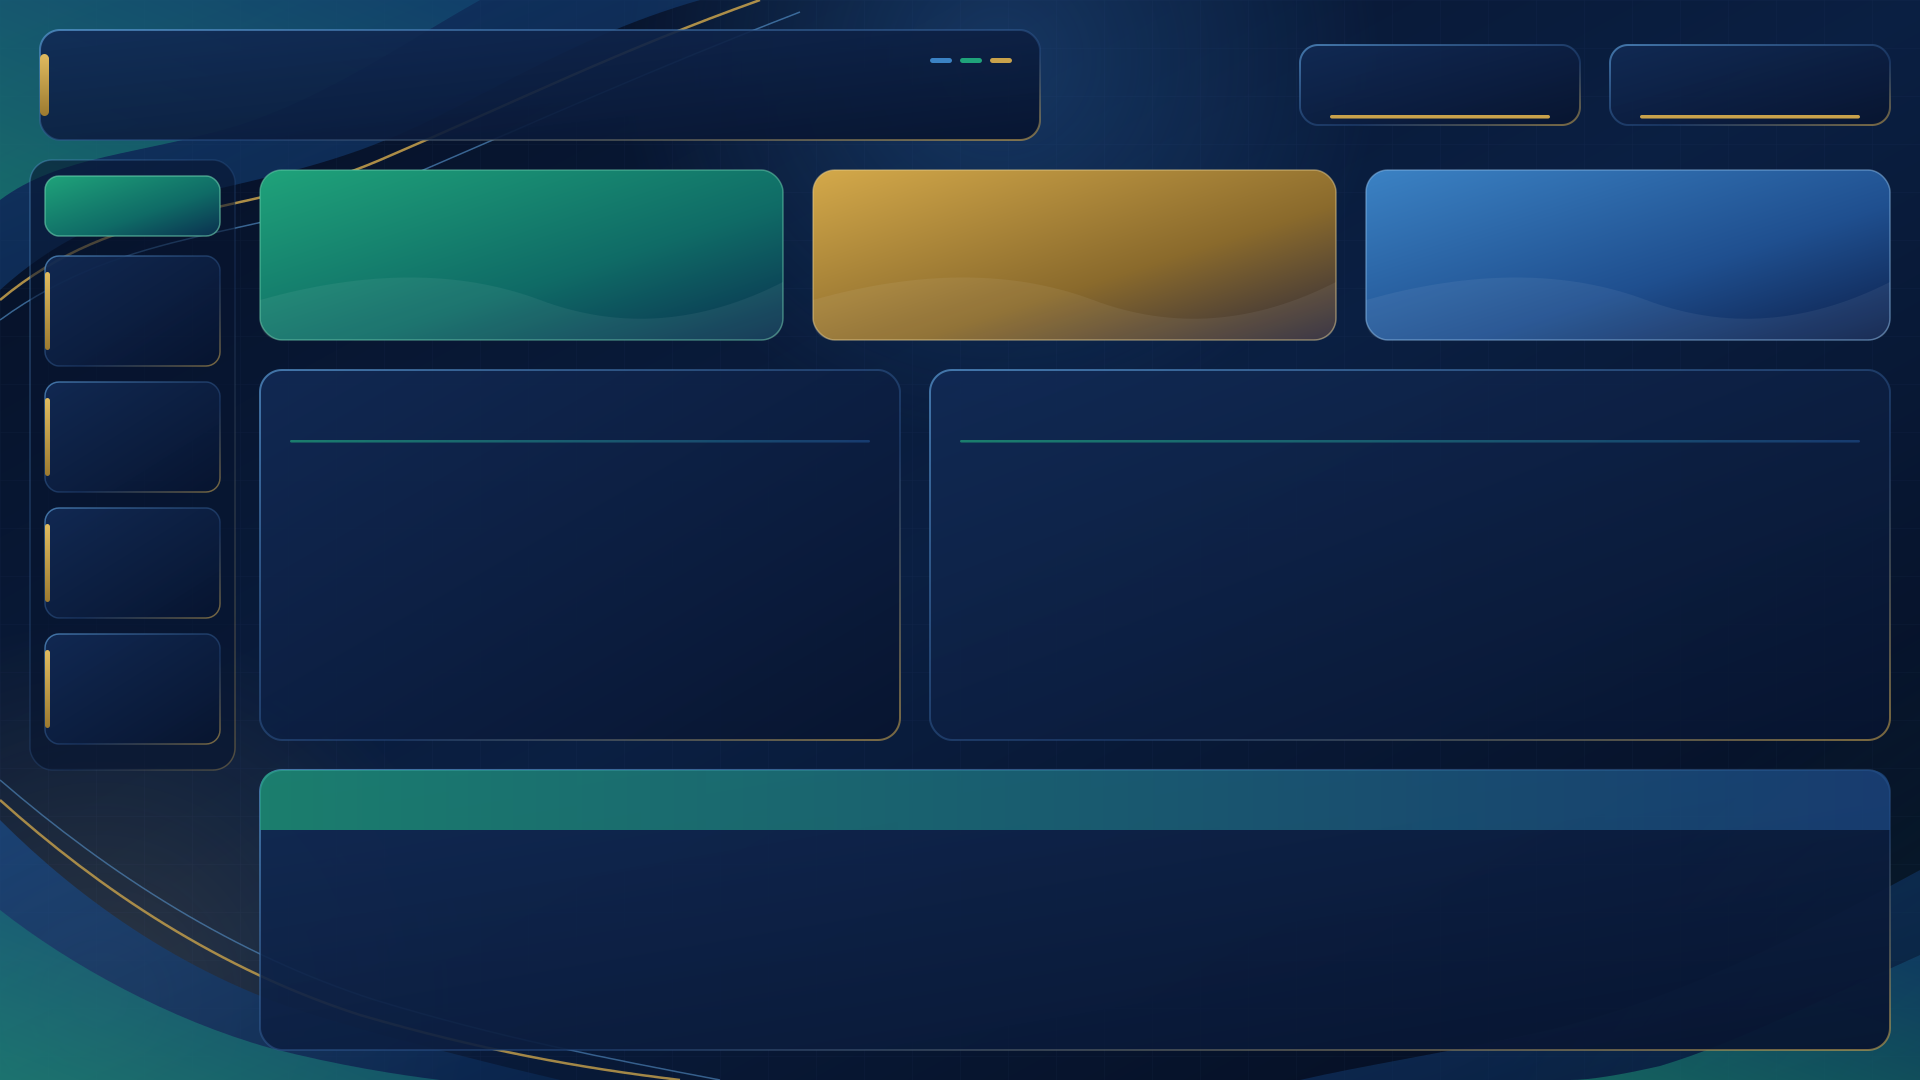

What the dashboard file says about the page in this screenshot:
{"tool":"powerbi","page":{"name":"Início","canvas":[1920,1080],"ordinal":0},"visuals":[{"type":"image","box":[0,0,1920,1080.2],"z":0},{"type":"donutChart","title":"Valor Total de Dívidas","fields":{"Category":["fDividas.Nome da dívida"],"Y":["Sum(fDividas.Valor contratado (R$))"]},"box":[943.3,365,936.7,363.3],"z":1000},{"type":"clusteredBarChart","title":"Evolução Mensal","fields":{"Category":["dCalenario.Mes"],"Y":["Medida.Soma das Despesas","Medida.Soma das Receitas"]},"box":[273.3,365,613.3,363.3],"z":2000},{"type":"treemap","title":"Soma de Cada Tipo de Investimento","fields":{"Group":["fInvestimentos.Nome do investimento"],"Values":["Sum(fInvestimentos.Valor atual (R$))"]},"box":[261.7,763.3,1635,288.3],"z":3000},{"type":"cardVisual","title":"Saldo Total em Conta","fields":{"Data":["Medida.Salto Total em Conta"]},"box":[273.3,180,490,151.7],"z":4000},{"type":"cardVisual","title":"Soma Total das Receitas","fields":{"Data":["Medida.Soma Total das Receitas"]},"box":[828.3,180,488.3,151.7],"z":5000},{"type":"cardVisual","title":"Soma Total das Despesas","fields":{"Data":["Medida.Saldo Geral Devedor"]},"box":[1398.3,180,468.3,151.7],"z":6000},{"type":"slicer","fields":{"Values":["dCalenario.Ano"]},"box":[51.7,271.7,161.7,80],"z":7000},{"type":"slicer","fields":{"Values":["dCalenario.Mes"]},"box":[51.4,397.1,161.7,80],"z":8000},{"type":"slicer","fields":{"Values":["fInvestimentos.Nome do investimento"]},"box":[51.4,524.3,161.7,80],"z":9000},{"type":"slicer","fields":{"Values":["fDividas.Nome da dívida"]},"box":[51.4,648.6,161.7,80],"z":10000},{"type":"textbox","box":[51.4,185.7,161.4,37.1],"z":11000},{"type":"shape","box":[40,172,181.4,62.9],"z":12000},{"type":"textbox","box":[1317.1,55.7,254.3,54.3],"z":13000},{"type":"textbox","box":[1625.7,55.7,254.3,54.3],"z":14000},{"type":"shape","box":[1295,0,300,88.6],"z":15000},{"type":"shape","box":[1603.3,0,300,88.6],"z":16000},{"type":"textbox","box":[53.3,46.7,811.7,71.7],"z":17000}]}

Visuals, with their boxes in screenshot pixels (x1, y1, x2, y2), scaled from the page's 1920x1080 canvas onto the 1920x1080 screenshot:
image: 0,0,1919,1079
"Valor Total de Dívidas" donutChart: 943,365,1880,728
"Evolução Mensal" clusteredBarChart: 273,365,887,728
"Soma de Cada Tipo de Investimento" treemap: 262,763,1897,1052
"Saldo Total em Conta" cardVisual: 273,180,763,332
"Soma Total das Receitas" cardVisual: 828,180,1317,332
"Soma Total das Despesas" cardVisual: 1398,180,1867,332
slicer - dCalenario.Ano: 52,272,213,352
slicer - dCalenario.Mes: 51,397,213,477
slicer - fInvestimentos.Nome do investimento: 51,524,213,604
slicer - fDividas.Nome da dívida: 51,649,213,729
textbox: 51,186,213,223
shape: 40,172,221,235
textbox: 1317,56,1571,110
textbox: 1626,56,1880,110
shape: 1295,0,1595,89
shape: 1603,0,1903,89
textbox: 53,47,865,118
